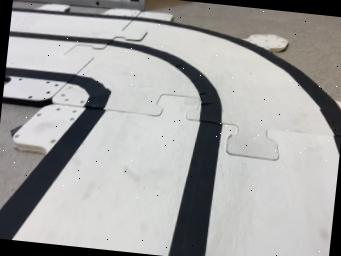street: (0, 7, 341, 256), (0, 7, 341, 256), (0, 7, 341, 256), (0, 7, 341, 256), (0, 7, 341, 256), (0, 7, 341, 256)
